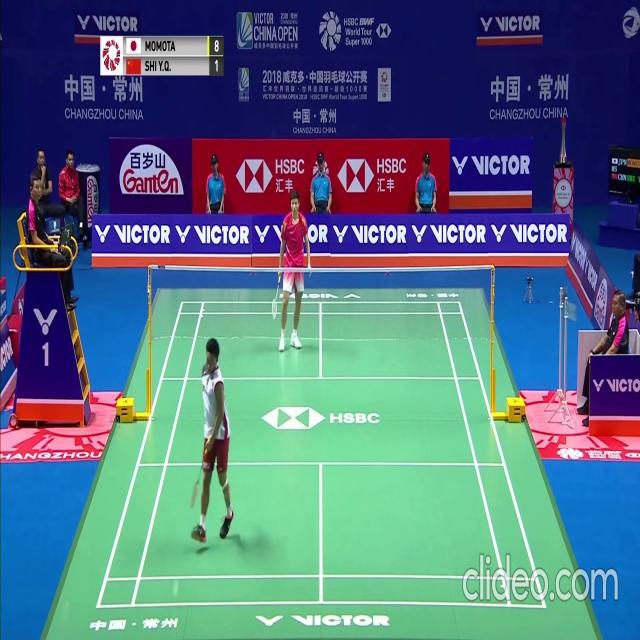Shuttlecock: (172, 589, 177, 596)
